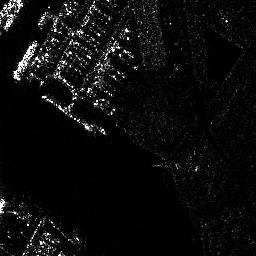ship: (13, 41, 36, 80), (4, 1, 22, 30)
